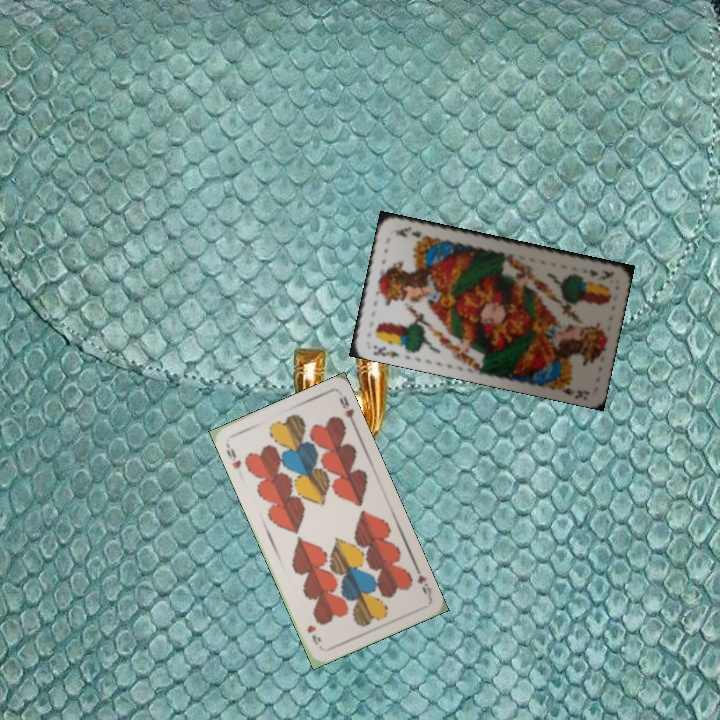EK: (369, 341, 402, 360), (585, 266, 617, 282)
H9: (411, 562, 435, 601), (222, 444, 244, 472)
